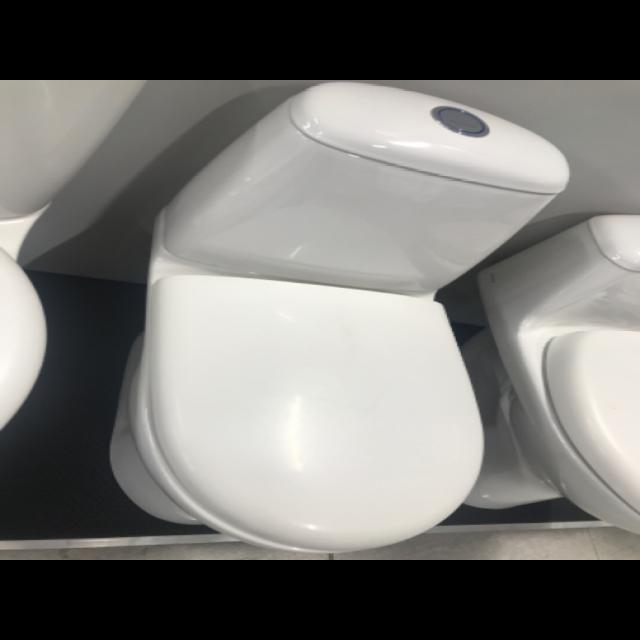toilet: (108, 81, 570, 554)
